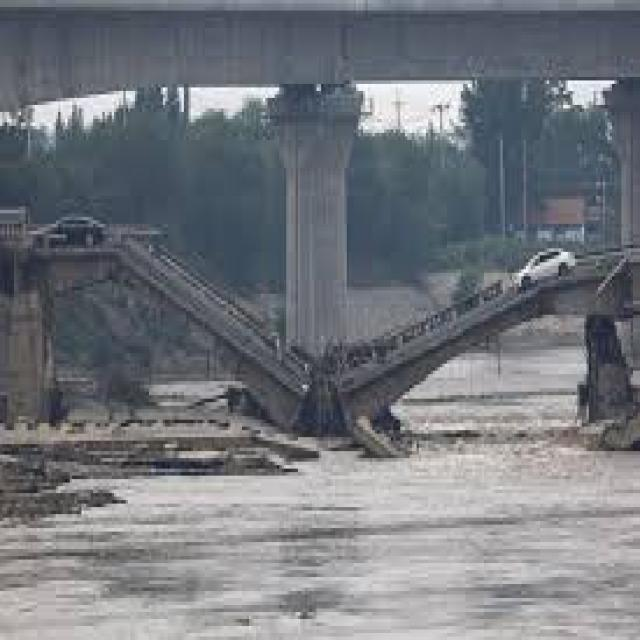bridge collapse: (70, 123, 640, 571)
